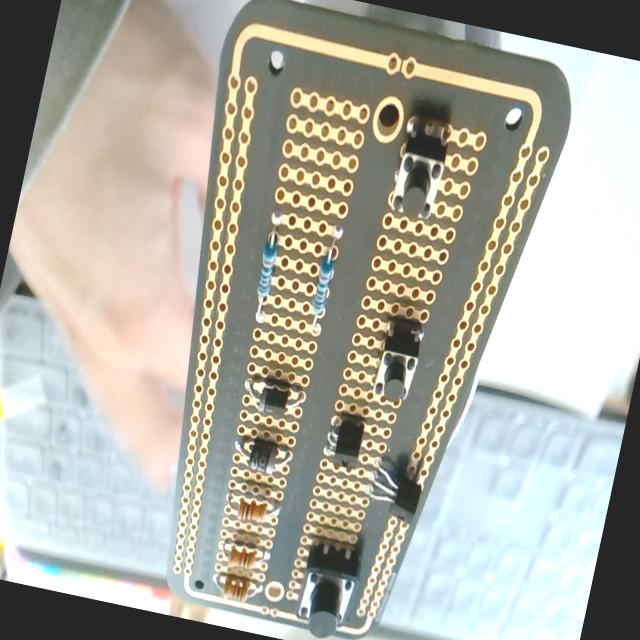diode: (237, 355, 310, 430), (230, 434, 293, 478)
resistor: (248, 208, 288, 325), (306, 221, 346, 333), (224, 490, 280, 531), (208, 576, 263, 612), (214, 542, 270, 574)
switch: (386, 111, 454, 225), (291, 539, 364, 640), (369, 316, 425, 406)
transistor: (361, 456, 425, 524), (321, 414, 366, 472)
